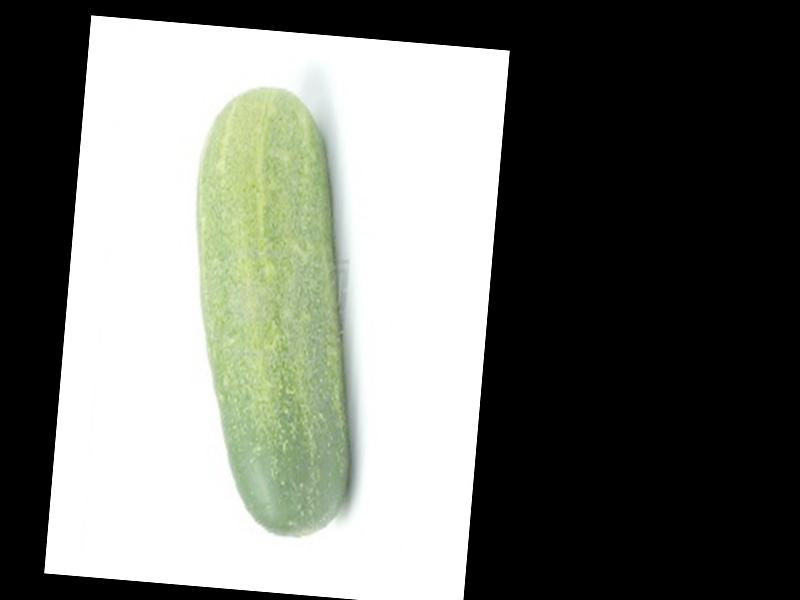Cucumber: (169, 82, 381, 539)
